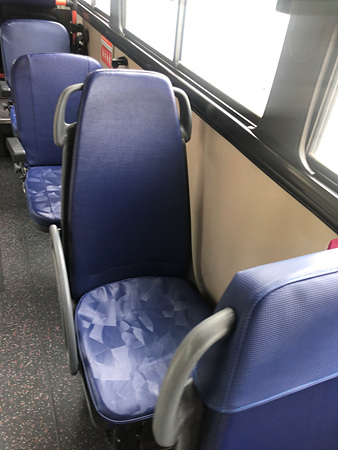seat: (64, 69, 204, 416)
